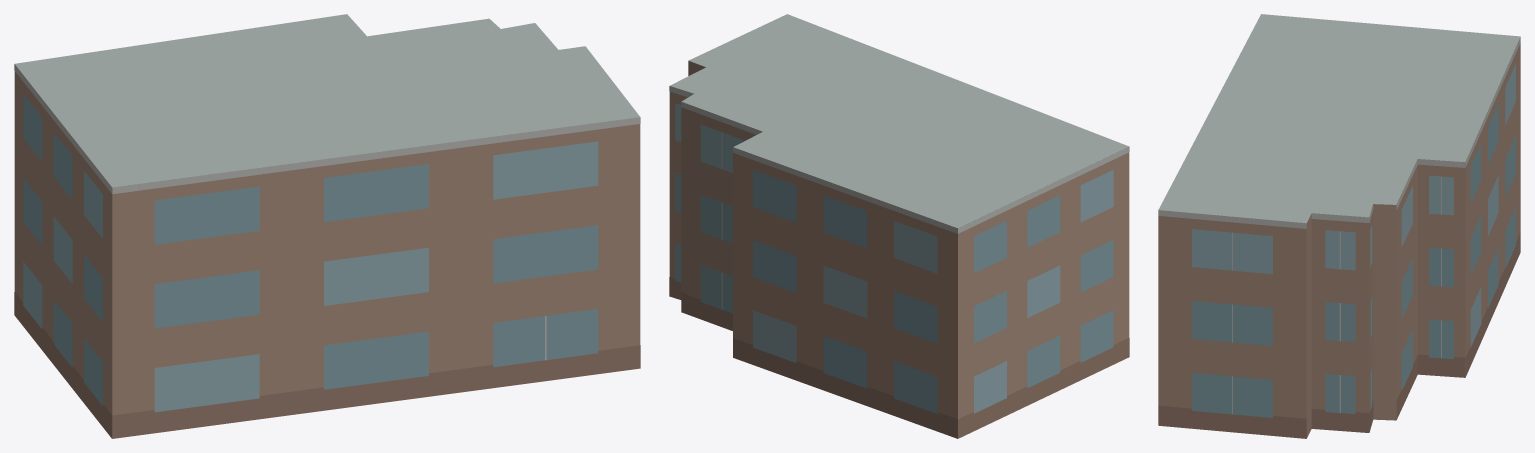
The model's file is survey-upis-32667473.glb.
The picture shows the model from 3 angles, left to right: view 1: azimuth 30°, elevation 25°; view 2: azimuth 150°, elevation 25°; view 3: azimuth 270°, elevation 25°; orthographic projection. The views are drawn at different scales.
Parts seen in each view (by area): view 1: survey-upis-32667473.tmp; view 2: survey-upis-32667473.tmp; view 3: survey-upis-32667473.tmp.
Part boxes in pixels (x1,y1,x2,y2): survey-upis-32667473.tmp: (14, 14, 640, 438); survey-upis-32667473.tmp: (669, 14, 1129, 438); survey-upis-32667473.tmp: (1158, 14, 1520, 438).
Bounding box in the file's own units: 19.06 × 9.15 × 13.95.
